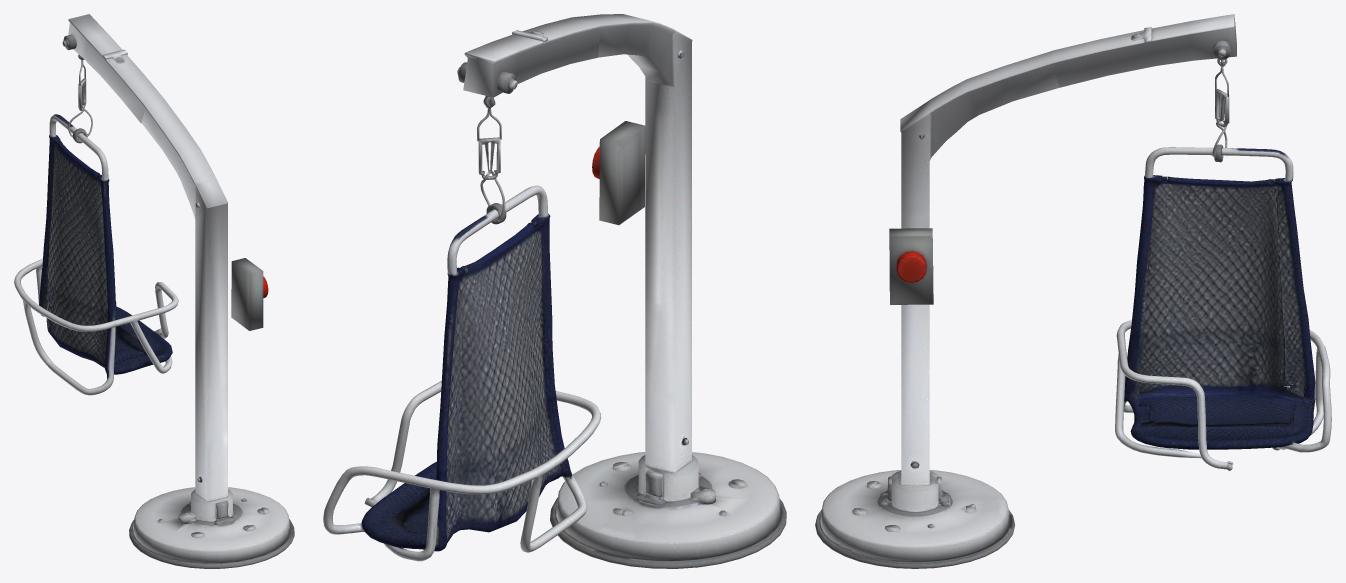
Rendered from hoist.glb.
3 views of the same model, side by side, from view 1: azimuth 30°, elevation 25°; view 2: azimuth 150°, elevation 25°; view 3: azimuth 270°, elevation 25° (orthographic). The views are drawn at different scales.
Visible parts, largest first — view 1: tripo_node_dfba6af1-ad6a-40d4-ba68-299da447c3e2; view 2: tripo_node_dfba6af1-ad6a-40d4-ba68-299da447c3e2; view 3: tripo_node_dfba6af1-ad6a-40d4-ba68-299da447c3e2.
Part boxes in pixels (left/top/right/bottom): tripo_node_dfba6af1-ad6a-40d4-ba68-299da447c3e2: left=14, top=14, right=294, bottom=568; tripo_node_dfba6af1-ad6a-40d4-ba68-299da447c3e2: left=323, top=14, right=786, bottom=568; tripo_node_dfba6af1-ad6a-40d4-ba68-299da447c3e2: left=815, top=14, right=1331, bottom=568.
Bounding box in the file's own units: 0.3794 × 0.9995 × 0.9204.
1 material, 1 textured.
